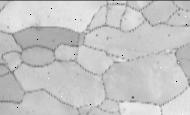good_void: (106, 35, 112, 41), (47, 69, 51, 75), (167, 33, 172, 37), (5, 25, 10, 29), (95, 33, 99, 37), (177, 12, 181, 16), (123, 16, 127, 20), (130, 96, 135, 99), (79, 19, 83, 22)
